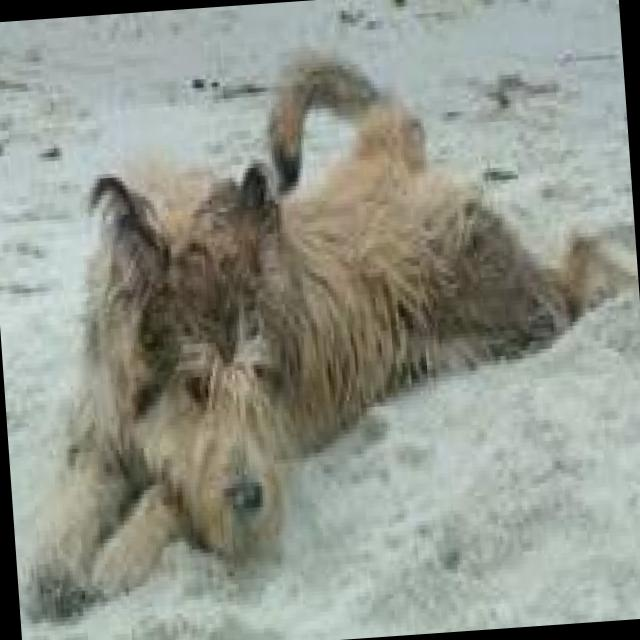Perro: (0, 16, 640, 623)
